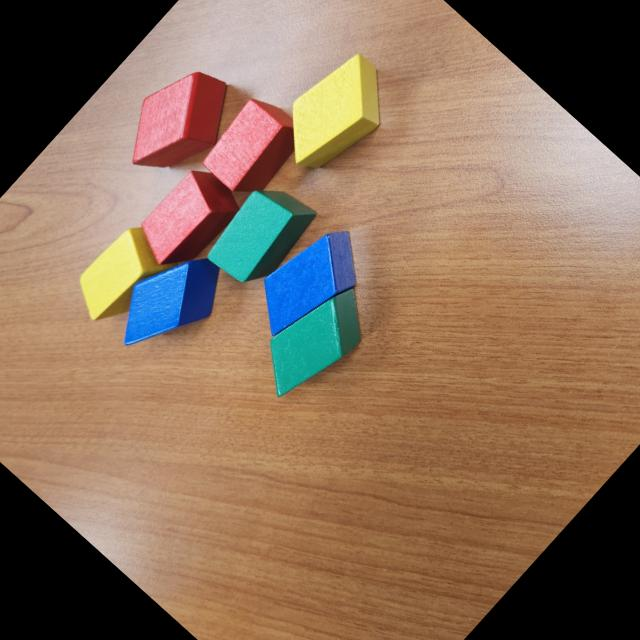blue: (240, 211, 378, 355), (99, 233, 238, 375)
green: (244, 268, 384, 414), (198, 170, 322, 296)
red: (104, 50, 250, 198), (128, 160, 246, 282), (194, 87, 312, 207)
yellow: (262, 40, 407, 188), (62, 218, 181, 338)
